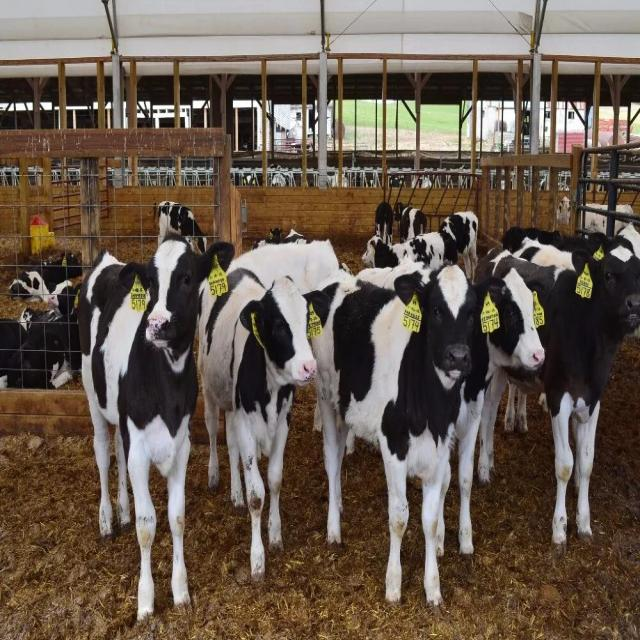cow: (301, 258, 544, 610), (76, 233, 234, 622), (196, 236, 350, 583), (501, 221, 639, 557), (0, 304, 81, 389), (151, 199, 206, 254)
